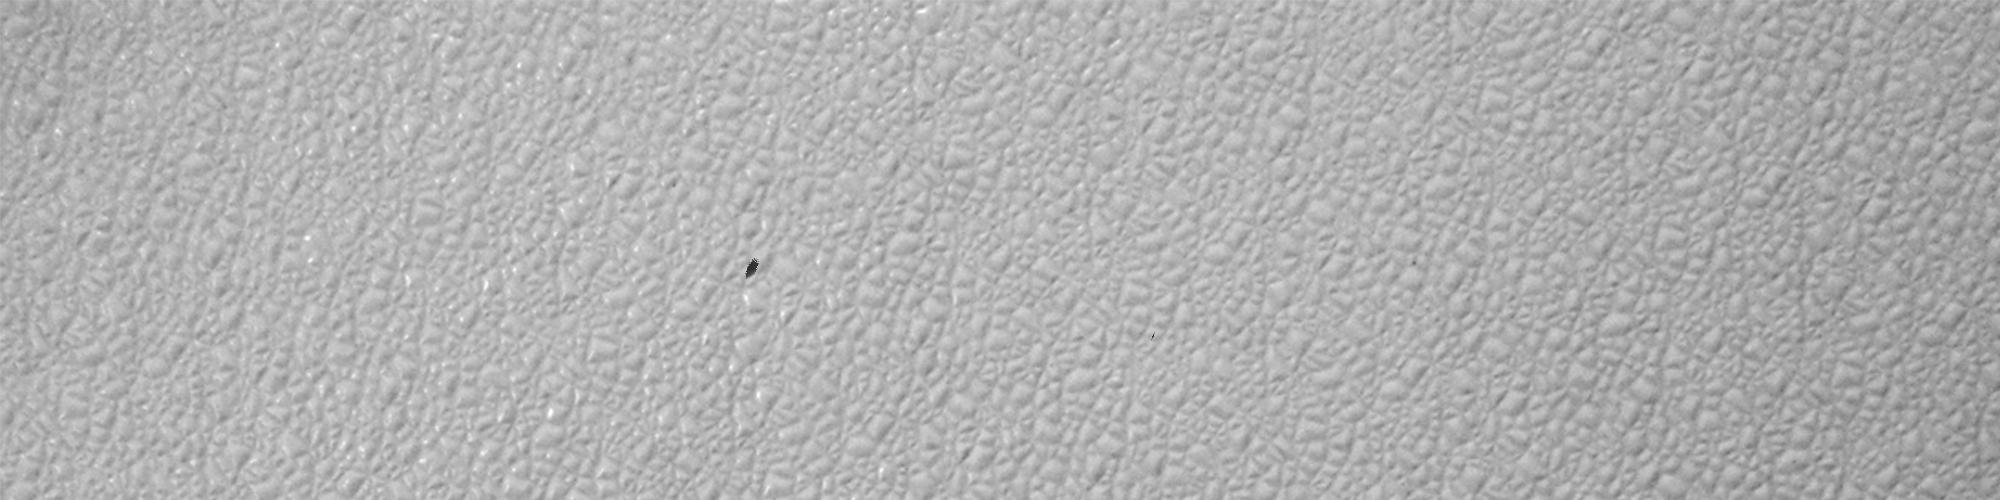Decomposed: (740, 258, 770, 287)
